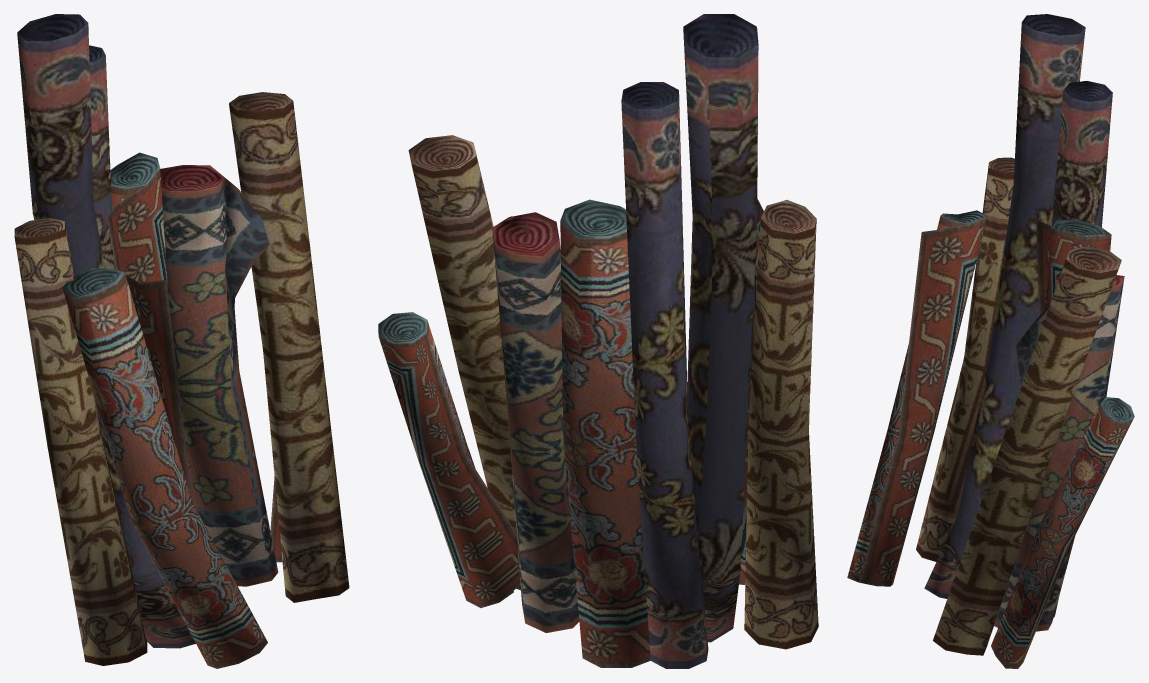
File: Rug_2.fbx
The picture shows the model from 3 angles, left to right: view 1: azimuth 30°, elevation 25°; view 2: azimuth 150°, elevation 25°; view 3: azimuth 270°, elevation 25°; orthographic projection. The views are drawn at different scales.
Parts seen in each view (by area): view 1: Rug_2; view 2: Rug_2; view 3: Rug_2.
Boxes of the visible parts, x1,y1,x2,y2 form: Rug_2: (14, 14, 349, 668); Rug_2: (378, 14, 818, 668); Rug_2: (847, 14, 1134, 668).
Bounding box in the file's own units: 138 × 237 × 112.
1 material, 1 textured.
